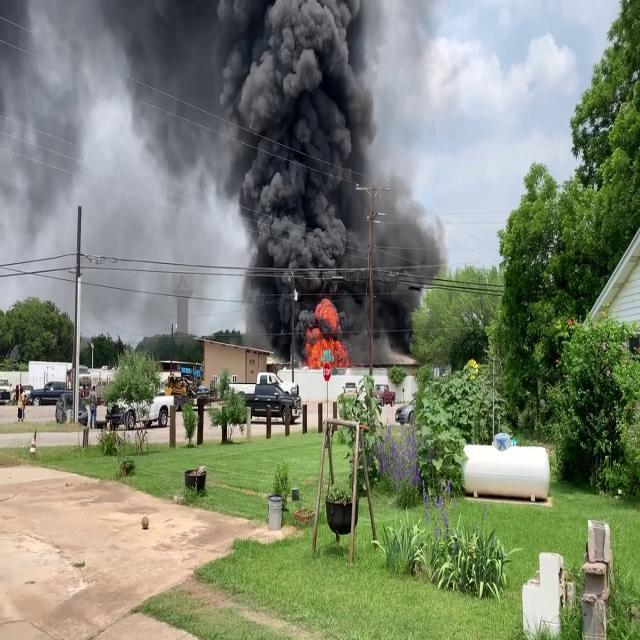Fire: (302, 299, 351, 366)
Smoke: (124, 0, 447, 355)
